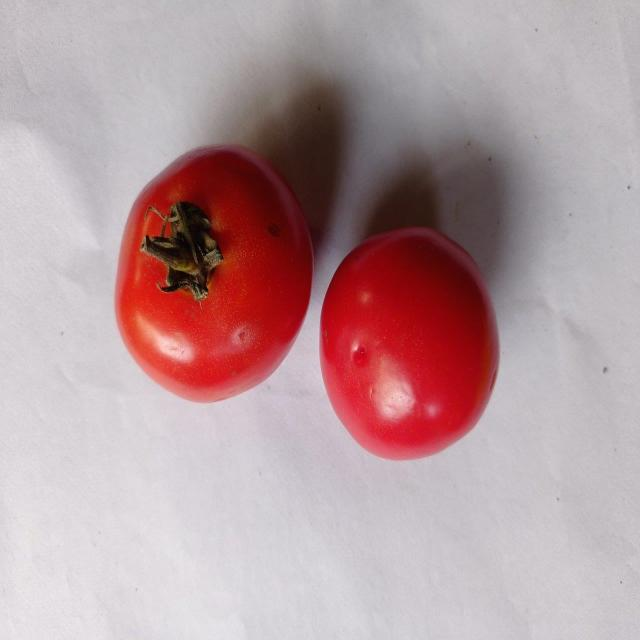Ripe: (110, 137, 316, 405), (319, 222, 500, 460)
